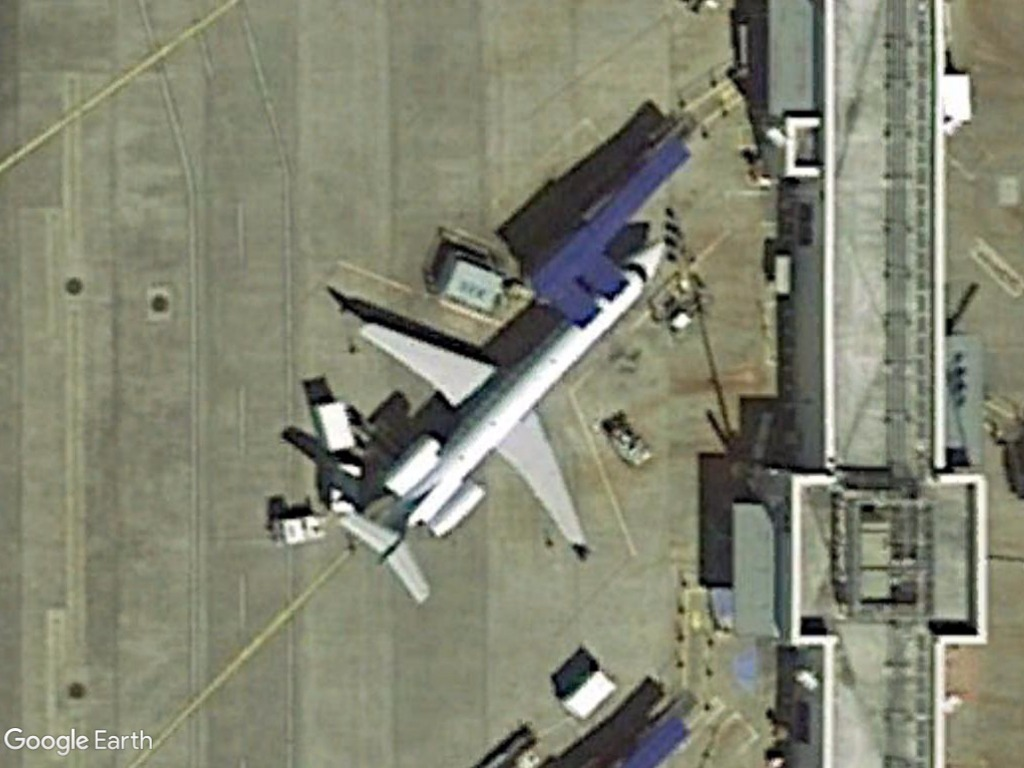chartered: (326, 231, 669, 608)
